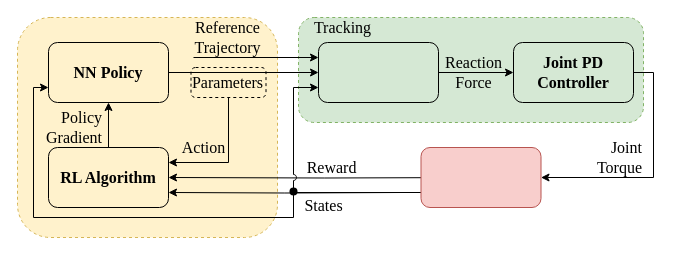
Some shapes in this 679 by 255 pixel diagram are drawn without their labels. The shapes that lost their labels are listed below. From the top down, each one's box as (x1, y1, x2, y2) in pixels, then its label:
(318, 42, 438, 102): Model Predictive Controller
(420, 146, 541, 208): Robot Dynamics
